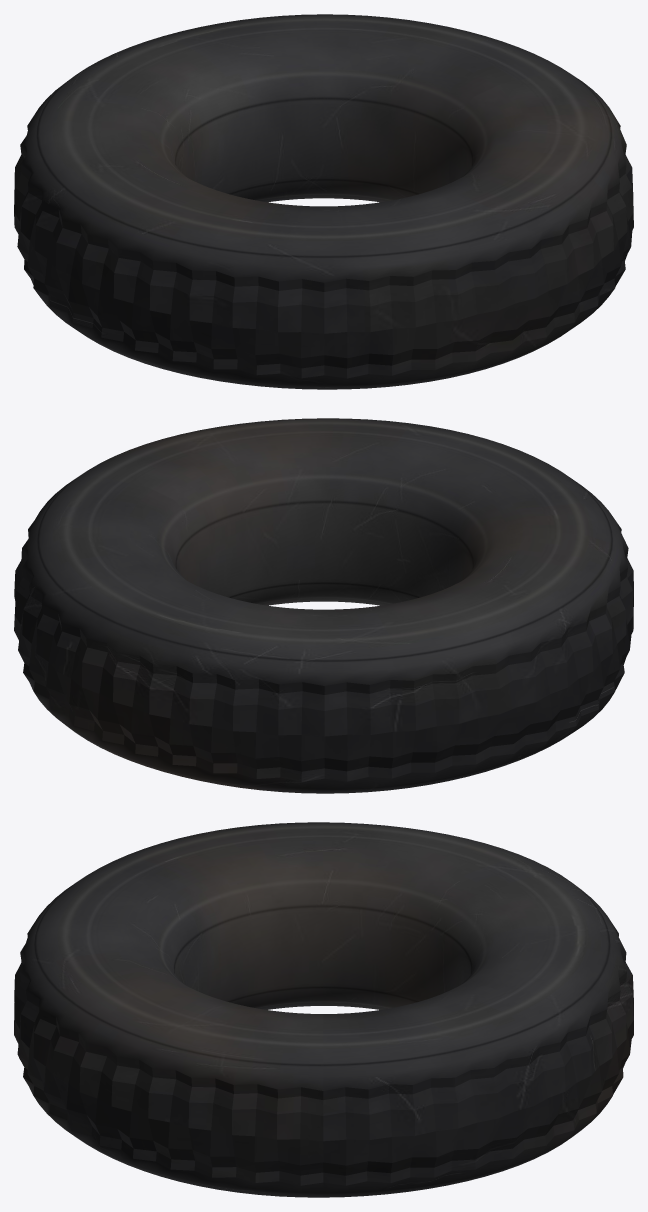
File: mess-tyre.glb
3 renders of one model, top to bottom at view 1: azimuth 30°, elevation 25°; view 2: azimuth 150°, elevation 25°; view 3: azimuth 270°, elevation 25°, orthographic.
Parts seen in each view (by area): view 1: mess-tyre; view 2: mess-tyre; view 3: mess-tyre.
Part boxes in pixels (x1,y1,x2,y2): mess-tyre: (14,14,633,389); mess-tyre: (14,418,633,793); mess-tyre: (14,822,633,1197).
Bounding box in the file's own units: 0.82 × 0.2189 × 0.818.
Materials: 1 (1 with a texture image).
